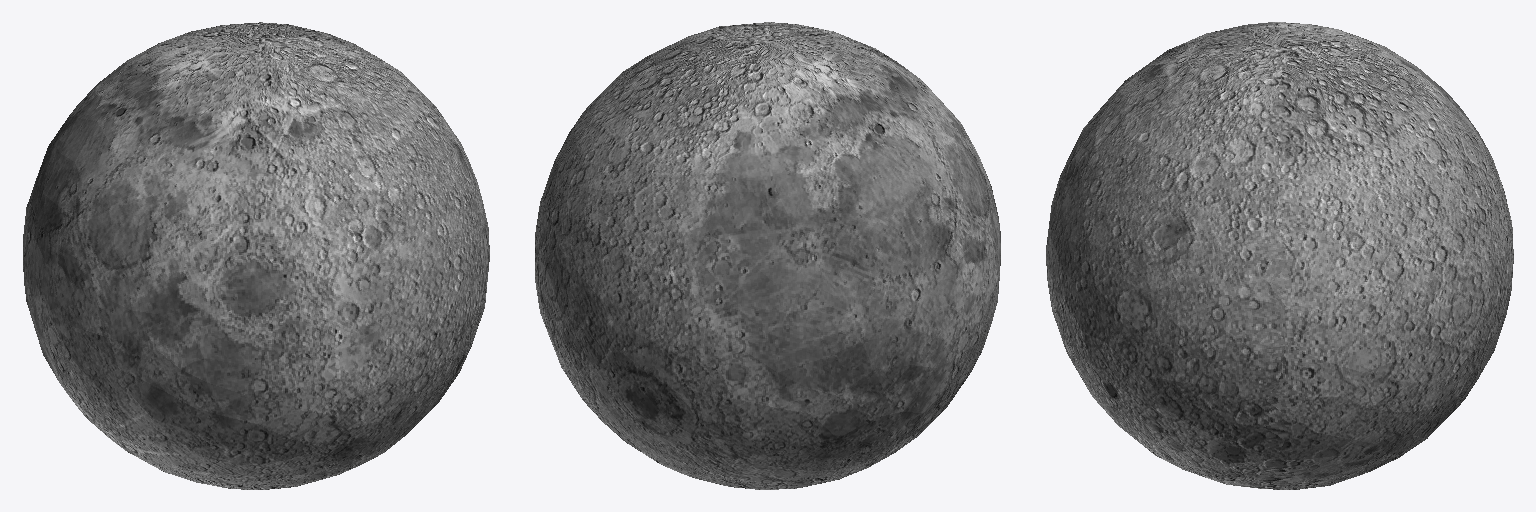
3 renders of one model, left to right at view 1: azimuth 30°, elevation 25°; view 2: azimuth 150°, elevation 25°; view 3: azimuth 270°, elevation 25°, orthographic.
Visible parts, largest first — view 1: Luna_Globe.004; view 2: Luna_Globe.004; view 3: Luna_Globe.004.
Part boxes in pixels (bbox=[...]): Luna_Globe.004: bbox=[23, 22, 489, 489]; Luna_Globe.004: bbox=[535, 22, 1000, 489]; Luna_Globe.004: bbox=[1046, 22, 1513, 489].
Bounding box in the file's own units: 0.6599 × 0.6601 × 0.66.
Materials: 1 (1 with a texture image).